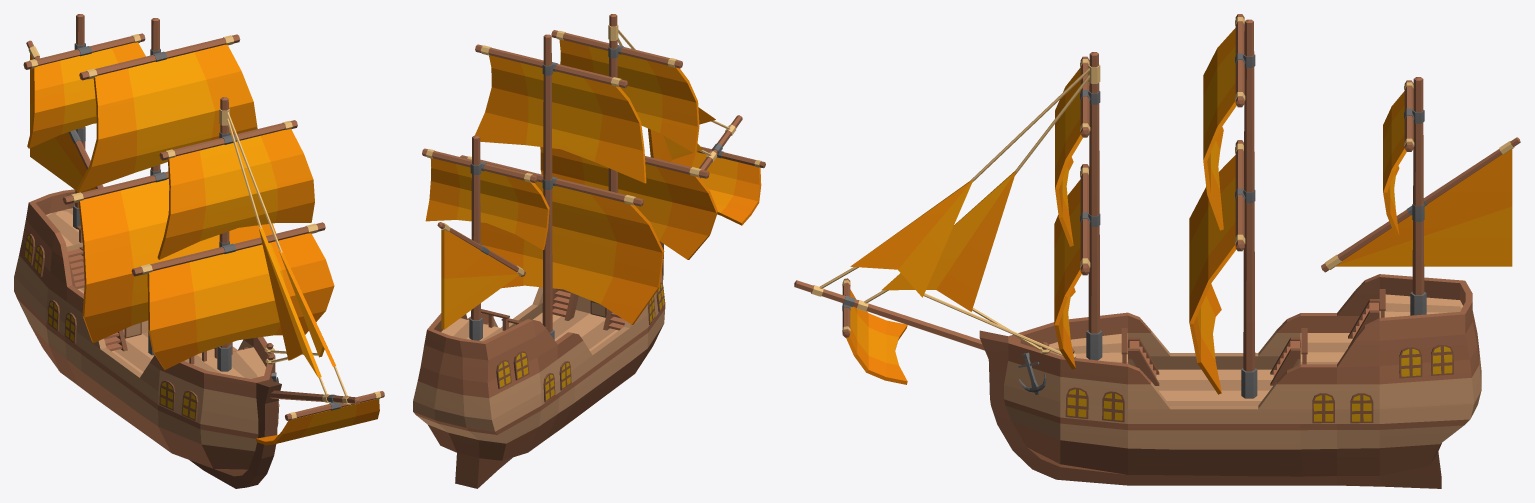
File: ship-large-1.glb
3 views of the same model, side by side, from view 1: azimuth 30°, elevation 25°; view 2: azimuth 150°, elevation 25°; view 3: azimuth 270°, elevation 25° (orthographic). The views are drawn at different scales.
Parts seen in each view (by area): view 1: ship large 1; view 2: ship large 1; view 3: ship large 1.
Part boxes in pixels (x1=…): ship large 1: x1=14, y1=14, x2=384, y2=488; ship large 1: x1=413, y1=14, x2=765, y2=488; ship large 1: x1=794, y1=14, x2=1520, y2=488.
Bounding box in the file's own units: 13.58 × 27.85 × 39.63.
Materials: 1 (1 with a texture image).
